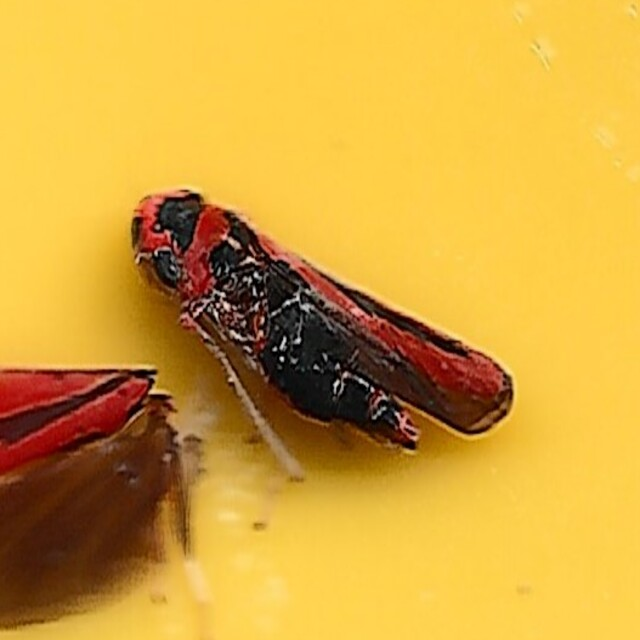Hemiptera: (121, 179, 519, 461)
